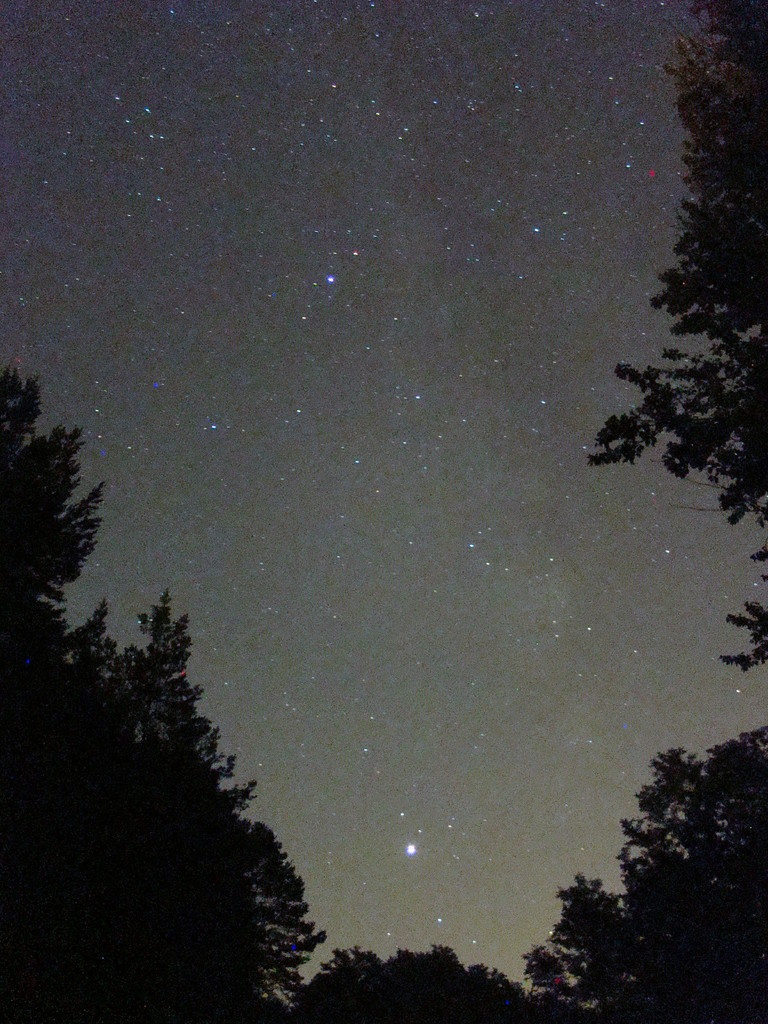Tree: (0, 363, 768, 1024), (586, 0, 768, 674)
